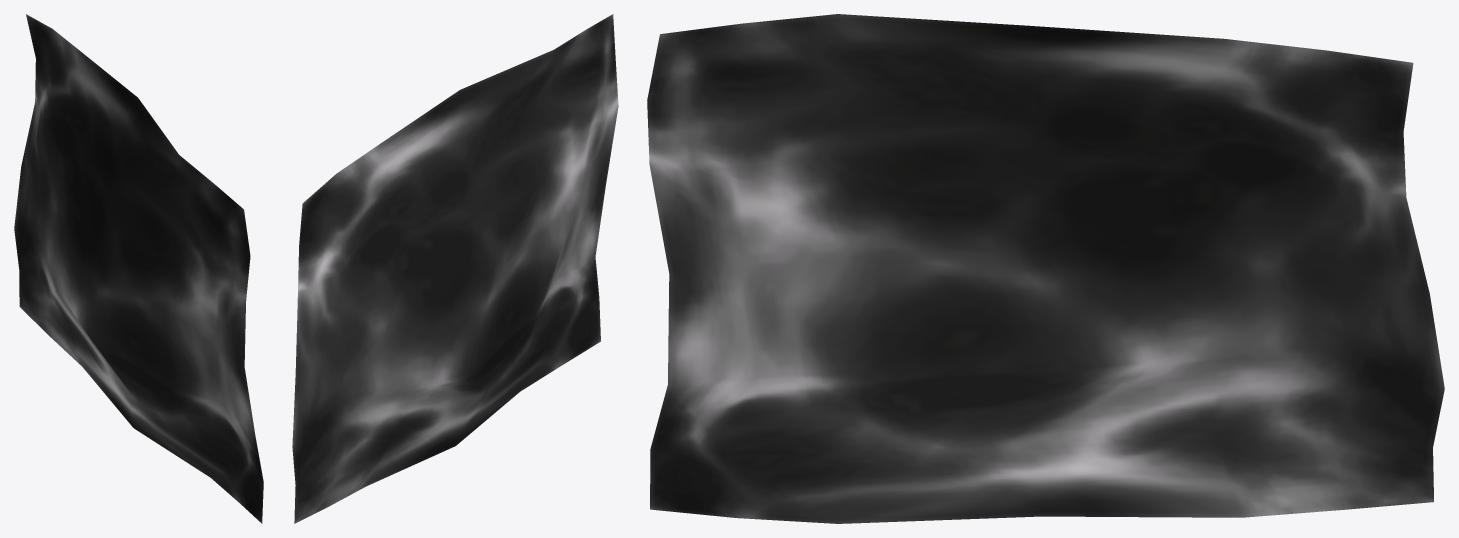
Rendered from wall_001.FBX.
3 renders of one model, left to right at view 1: azimuth 30°, elevation 25°; view 2: azimuth 150°, elevation 25°; view 3: azimuth 270°, elevation 25°, orthographic. The views are drawn at different scales.
Visible parts, largest first — view 1: Plane002; view 2: Plane002; view 3: Plane002.
Boxes of the visible parts, x1,y1,x2,y2 form: Plane002: [14, 14, 263, 523]; Plane002: [292, 14, 618, 523]; Plane002: [647, 14, 1444, 523].
Bounding box in the file's own units: 5.16 × 29.14 × 42.77.
